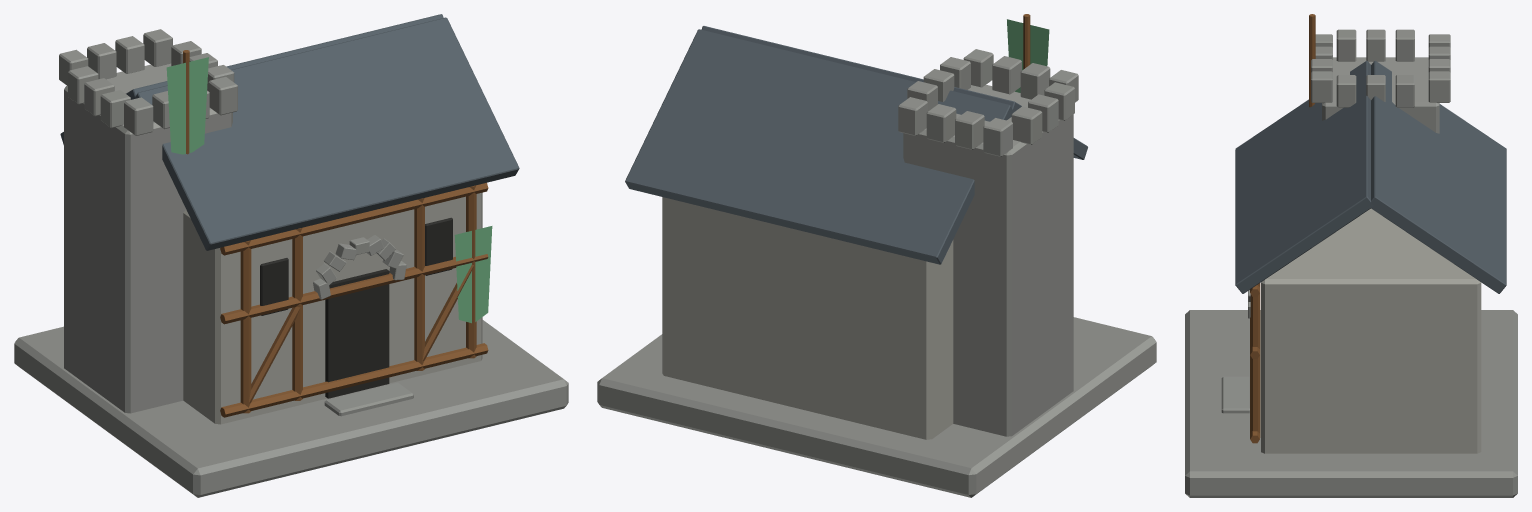
Rendered from edificio-center-e2-BN-o2EVE.glb.
The picture shows the model from 3 angles, left to right: view 1: azimuth 30°, elevation 25°; view 2: azimuth 150°, elevation 25°; view 3: azimuth 270°, elevation 25°; orthographic projection. The views are drawn at different scales.
Parts seen in each view (by area): view 1: centro_e2_mamposteria, centro_e2_cubierta_detalles, centro_e2_estructura, centro_e2_team_color; view 2: centro_e2_mamposteria, centro_e2_cubierta_detalles, centro_e2_team_color; view 3: centro_e2_mamposteria, centro_e2_cubierta_detalles, centro_e2_estructura.
Boxes of the visible parts, bbox=[...] form: centro_e2_mamposteria: bbox=[14, 29, 568, 497]; centro_e2_cubierta_detalles: bbox=[60, 14, 519, 398]; centro_e2_estructura: bbox=[183, 50, 488, 417]; centro_e2_team_color: bbox=[166, 57, 492, 323]; centro_e2_mamposteria: bbox=[597, 49, 1156, 497]; centro_e2_cubierta_detalles: bbox=[625, 26, 1087, 264]; centro_e2_team_color: bbox=[1007, 19, 1049, 92]; centro_e2_mamposteria: bbox=[1185, 29, 1517, 497]; centro_e2_cubierta_detalles: bbox=[1235, 61, 1506, 293]; centro_e2_estructura: bbox=[1250, 14, 1315, 443].
Bounding box in the file's own units: 80.25 × 78 × 68.
